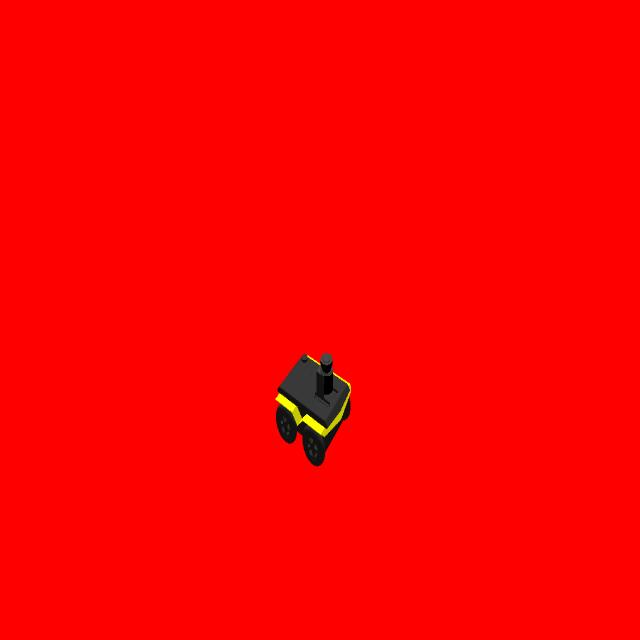jackal: (275, 346, 354, 466)
